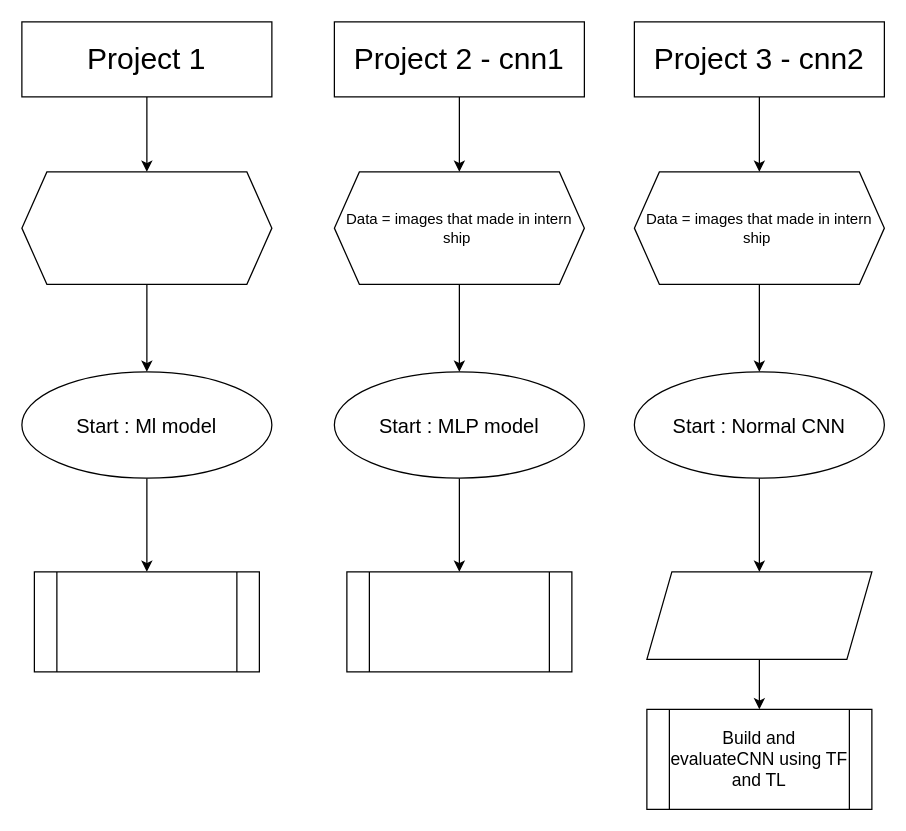
Image size: 906x831. Some labels were removed from this diagram. Here are the shapes that lost their labels. From the top down, the centre of each, then its label:
At point 146,227: "Data = tabular data from kaggle".
At point 146,621: "Build and evaluate DL models using TF".
At point 459,621: "Build and evaluateCNN using TF".
At point 759,615: "Early stopping and avoid over fitting".
